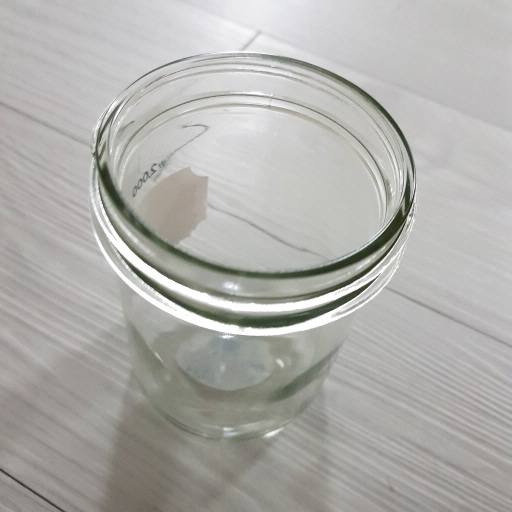Glass_5: (88, 49, 421, 444)
